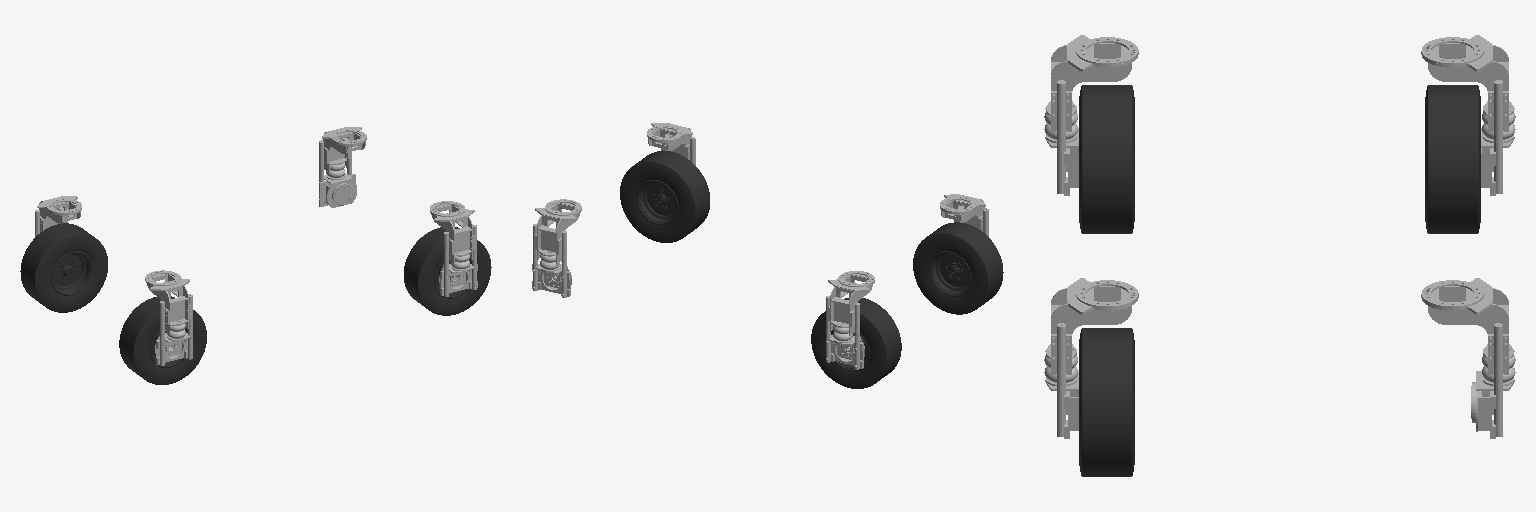
robot.urdf — agrorob_visualization:
<?xml version="1.0" encoding="utf-8"?>
<robot
  name="agrorob_visualization">
  <link
    name="base_link">
    <inertial>
      <origin
        xyz="-0.048158 -0.011907 -0.29729"
        rpy="0 0 0" />
      <mass
        value="109.44" />
      <inertia
        ixx="11.552"
        ixy="8.0751E-05"
        ixz="0.09927"
        iyy="6.1568"
        iyz="0.011191"
        izz="16.673" />
    </inertial>
    <visual>
      <origin
        xyz="0 0 0"
        rpy="0 0 0" />
      <geometry>
        <mesh
          filename="package://agrorob_visualization/meshes/base_link.STL" />
      </geometry>
      <material
        name="">
        <color
          rgba="0.6 0.6 0.7 1" />
      </material>
    </visual>
    <collision>
      <origin
        xyz="0 0 0"
        rpy="0 0 0" />
      <geometry>
        <mesh
          filename="package://agrorob_visualization/meshes/base_link.STL" />
      </geometry>
    </collision>
  </link>
  <link
    name="shin_RR">
    <inertial>
      <origin
        xyz="-1.6198E-05 -0.18089 -0.36666"
        rpy="0 0 0" />
      <mass
        value="13.879" />
      <inertia
        ixx="0.17331"
        ixy="4.2107E-05"
        ixz="1.8205E-06"
        iyy="0.16512"
        iyz="-0.012091"
        izz="0.098891" />
    </inertial>
    <visual>
      <origin
        xyz="0 0 0"
        rpy="0 0 0" />
      <geometry>
        <mesh
          filename="package://agrorob_visualization/meshes/shin_RR.STL" />
      </geometry>
      <material
        name="">
        <color
          rgba="0.74902 0.74902 0.74902 1" />
      </material>
    </visual>
    <collision>
      <origin
        xyz="0 0 0"
        rpy="0 0 0" />
      <geometry>
        <mesh
          filename="package://agrorob_visualization/meshes/shin_RR.STL" />
      </geometry>
    </collision>
  </link>
  <joint
    name="body_shin_RR"
    type="continuous">
    <origin
      xyz="-1.5189 -0.91134 -0.59348"
      rpy="0 0 0" />
    <parent
      link="base_link" />
    <child
      link="shin_RR" />
    <axis
      xyz="0 0 1" />
  </joint>
  <link
    name="wheel_RR">
    <inertial>
      <origin
        xyz="5.09761597659031E-05 -0.00621804725393116 -5.2513144545463E-05"
        rpy="0 0 0" />
      <mass
        value="15.2882363411273" />
      <inertia
        ixx="0.750826999841358"
        ixy="-3.17312090709986E-05"
        ixz="1.13856033648885E-05"
        iyy="1.20927676163548"
        iyz="2.64143117689303E-05"
        izz="0.750817779574298" />
    </inertial>
    <visual>
      <origin
        xyz="0 0 0"
        rpy="0 0 0" />
      <geometry>
        <mesh
          filename="package://agrorob_visualization/meshes/wheel_RR.STL" />
      </geometry>
      <material
        name="">
        <color
          rgba="0.250980392156863 0.250980392156863 0.250980392156863 1" />
      </material>
    </visual>
    <collision>
      <origin
        xyz="0 0 0"
        rpy="0 0 0" />
      <geometry>
        <mesh
          filename="package://agrorob_visualization/meshes/wheel_RR.STL" />
      </geometry>
    </collision>
  </link>
  <joint
    name="shin_wheel_RR"
    type="continuous">
    <origin
      xyz="0 0 -0.62885"
      rpy="0 0 0" />
    <parent
      link="shin_RR" />
    <child
      link="wheel_RR" />
    <axis
      xyz="0 1 0" />
  </joint>
  <link
    name="shin_RL">
    <inertial>
      <origin
        xyz="1.6198E-05 0.18089 -0.36666"
        rpy="0 0 0" />
      <mass
        value="13.879" />
      <inertia
        ixx="0.17331"
        ixy="4.2107E-05"
        ixz="-1.8188E-06"
        iyy="0.16512"
        iyz="0.012091"
        izz="0.09889" />
    </inertial>
    <visual>
      <origin
        xyz="0 0 0"
        rpy="0 0 0" />
      <geometry>
        <mesh
          filename="package://agrorob_visualization/meshes/shin_RL.STL" />
      </geometry>
      <material
        name="">
        <color
          rgba="0.74902 0.74902 0.74902 1" />
      </material>
    </visual>
    <collision>
      <origin
        xyz="0 0 0"
        rpy="0 0 0" />
      <geometry>
        <mesh
          filename="package://agrorob_visualization/meshes/shin_RL.STL" />
      </geometry>
    </collision>
  </link>
  <joint
    name="body_shin_RL"
    type="continuous">
    <origin
      xyz="-1.5189 0.88866 -0.59348"
      rpy="0 0 0" />
    <parent
      link="base_link" />
    <child
      link="shin_RL" />
    <axis
      xyz="0 0 1" />
  </joint>
  <link
    name="wheel_RL">
    <inertial>
      <origin
        xyz="5.0977E-05 0.006218 5.2513E-05"
        rpy="0 0 0" />
      <mass
        value="15.288" />
      <inertia
        ixx="0.75083"
        ixy="3.1732E-05"
        ixz="-1.1386E-05"
        iyy="1.2093"
        iyz="2.6415E-05"
        izz="0.75082" />
    </inertial>
    <visual>
      <origin
        xyz="0 0 0"
        rpy="0 0 0" />
      <geometry>
        <mesh
          filename="package://agrorob_visualization/meshes/wheel_RL.STL" />
      </geometry>
      <material
        name="">
        <color
          rgba="0.25098 0.25098 0.25098 1" />
      </material>
    </visual>
    <collision>
      <origin
        xyz="0 0 0"
        rpy="0 0 0" />
      <geometry>
        <mesh
          filename="package://agrorob_visualization/meshes/wheel_RL.STL" />
      </geometry>
    </collision>
  </link>
  <joint
    name="shin_wheel_RL"
    type="continuous">
    <origin
      xyz="0 0 -0.62885"
      rpy="0 0 0" />
    <parent
      link="shin_RL" />
    <child
      link="wheel_RL" />
    <axis
      xyz="0 -1 0" />
  </joint>
  <link
    name="shin_FR">
    <inertial>
      <origin
        xyz="-1.6198E-05 -0.18089 -0.36666"
        rpy="0 0 0" />
      <mass
        value="13.879" />
      <inertia
        ixx="0.17331"
        ixy="4.2107E-05"
        ixz="1.8193E-06"
        iyy="0.16512"
        iyz="-0.012091"
        izz="0.09889" />
    </inertial>
    <visual>
      <origin
        xyz="0 0 0"
        rpy="0 0 0" />
      <geometry>
        <mesh
          filename="package://agrorob_visualization/meshes/shin_FR.STL" />
      </geometry>
      <material
        name="">
        <color
          rgba="0.74902 0.74902 0.74902 1" />
      </material>
    </visual>
    <collision>
      <origin
        xyz="0 0 0"
        rpy="0 0 0" />
      <geometry>
        <mesh
          filename="package://agrorob_visualization/meshes/shin_FR.STL" />
      </geometry>
    </collision>
  </link>
  <joint
    name="body_shin_FR"
    type="continuous">
    <origin
      xyz="1.4791 -0.91134 -0.59348"
      rpy="0 0 0" />
    <parent
      link="base_link" />
    <child
      link="shin_FR" />
    <axis
      xyz="0 0 1" />
  </joint>
  <link
    name="wheel_FR">
    <inertial>
      <origin
        xyz="5.0976E-05 -0.012851 -5.2514E-05"
        rpy="0 0 0" />
      <mass
        value="15.288" />
      <inertia
        ixx="0.75083"
        ixy="-3.1732E-05"
        ixz="1.1386E-05"
        iyy="1.2093"
        iyz="2.6415E-05"
        izz="0.75082" />
    </inertial>
    <visual>
      <origin
        xyz="0 0 0"
        rpy="0 0 0" />
      <geometry>
        <mesh
          filename="package://agrorob_visualization/meshes/wheel_FR.STL" />
      </geometry>
      <material
        name="">
        <color
          rgba="0.25098 0.25098 0.25098 1" />
      </material>
    </visual>
    <collision>
      <origin
        xyz="0 0 0"
        rpy="0 0 0" />
      <geometry>
        <mesh
          filename="package://agrorob_visualization/meshes/wheel_FR.STL" />
      </geometry>
    </collision>
  </link>
  <joint
    name="shin_wheel_FR"
    type="continuous">
    <origin
      xyz="0 0 -0.62885"
      rpy="0 0 0" />
    <parent
      link="shin_FR" />
    <child
      link="wheel_FR" />
    <axis
      xyz="0 1 0" />
  </joint>
  <link
    name="shin_FL">
    <inertial>
      <origin
        xyz="1.6198E-05 0.18089 -0.36666"
        rpy="0 0 0" />
      <mass
        value="13.879" />
      <inertia
        ixx="0.17331"
        ixy="4.2107E-05"
        ixz="-1.819E-06"
        iyy="0.16512"
        iyz="0.012091"
        izz="0.09889" />
    </inertial>
    <visual>
      <origin
        xyz="0 0 0"
        rpy="0 0 0" />
      <geometry>
        <mesh
          filename="package://agrorob_visualization/meshes/shin_FL.STL" />
      </geometry>
      <material
        name="">
        <color
          rgba="0.74902 0.74902 0.74902 1" />
      </material>
    </visual>
    <collision>
      <origin
        xyz="0 0 0"
        rpy="0 0 0" />
      <geometry>
        <mesh
          filename="package://agrorob_visualization/meshes/shin_FL.STL" />
      </geometry>
    </collision>
  </link>
  <joint
    name="body_shin_FL"
    type="continuous">
    <origin
      xyz="1.4791 0.88866 -0.59348"
      rpy="0 0 0" />
    <parent
      link="base_link" />
    <child
      link="shin_FL" />
    <axis
      xyz="0 0 1" />
  </joint>
  <link
    name="wheel_FL">
    <inertial>
      <origin
        xyz="5.0977E-05 0.006218 5.2514E-05"
        rpy="0 0 0" />
      <mass
        value="15.288" />
      <inertia
        ixx="0.75083"
        ixy="3.1732E-05"
        ixz="-1.1386E-05"
        iyy="1.2093"
        iyz="2.6415E-05"
        izz="0.75082" />
    </inertial>
    <visual>
      <origin
        xyz="0 0 0"
        rpy="0 0 0" />
      <geometry>
        <mesh
          filename="package://agrorob_visualization/meshes/wheel_FL.STL" />
      </geometry>
      <material
        name="">
        <color
          rgba="0.25098 0.25098 0.25098 1" />
      </material>
    </visual>
    <collision>
      <origin
        xyz="0 0 0"
        rpy="0 0 0" />
      <geometry>
        <mesh
          filename="package://agrorob_visualization/meshes/wheel_FL.STL" />
      </geometry>
    </collision>
  </link>
  <joint
    name="shin_wheel_FL"
    type="continuous">
    <origin
      xyz="0 0 -0.62885"
      rpy="0 0 0" />
    <parent
      link="shin_FL" />
    <child
      link="wheel_FL" />
    <axis
      xyz="0 -1 0" />
  </joint>
</robot>

--- What the picture shows (computed from the rendered views, not written in the file) ---
3 views of the same robot in one strip: view 1: azimuth 30°, elevation 25°; view 2: azimuth 150°, elevation 25°; view 3: azimuth 270°, elevation 25° (orthographic).
Robot: agrorob_visualization — 9 links, 8 joints (8 continuous); root link base_link; default pose: all joints at 0.
Links seen in each view (by area): view 1: wheel_RL, wheel_RR, wheel_FR, shin_FR, shin_RR, shin_FL, shin_RL; view 2: wheel_RR, wheel_FR, wheel_RL, shin_FL, shin_RL, shin_RR, shin_FR; view 3: wheel_RR, wheel_RL, wheel_FR, shin_FL, shin_RL, shin_RR, shin_FR.
Link boxes in pixels (x1,y1,x2,y2): wheel_RL: (20,223,107,312); wheel_RR: (119,296,206,384); wheel_FR: (404,227,491,315); shin_FR: (430,201,477,296); shin_RR: (145,270,192,365); shin_FL: (319,127,366,207); shin_RL: (35,196,81,236); wheel_RR: (913,222,1003,314); wheel_FR: (620,151,709,242); wheel_RL: (811,298,901,388); shin_FL: (532,199,581,297); shin_RL: (826,271,874,369); shin_RR: (940,194,988,236); shin_FR: (647,123,695,165); wheel_RR: (1079,85,1134,233); wheel_RL: (1425,85,1480,233); wheel_FR: (1079,328,1134,476); shin_FL: (1421,278,1515,438); shin_RL: (1421,35,1515,195); shin_RR: (1044,35,1138,195); shin_FR: (1044,278,1138,438).
Size in the robot's own frame: 3.78 by 2.46 by 1.02 metres.
7 mesh visuals loaded from 9 distinct referenced files (7 binary STL); not drawn: 2 (reference not matched to a file when rendering).